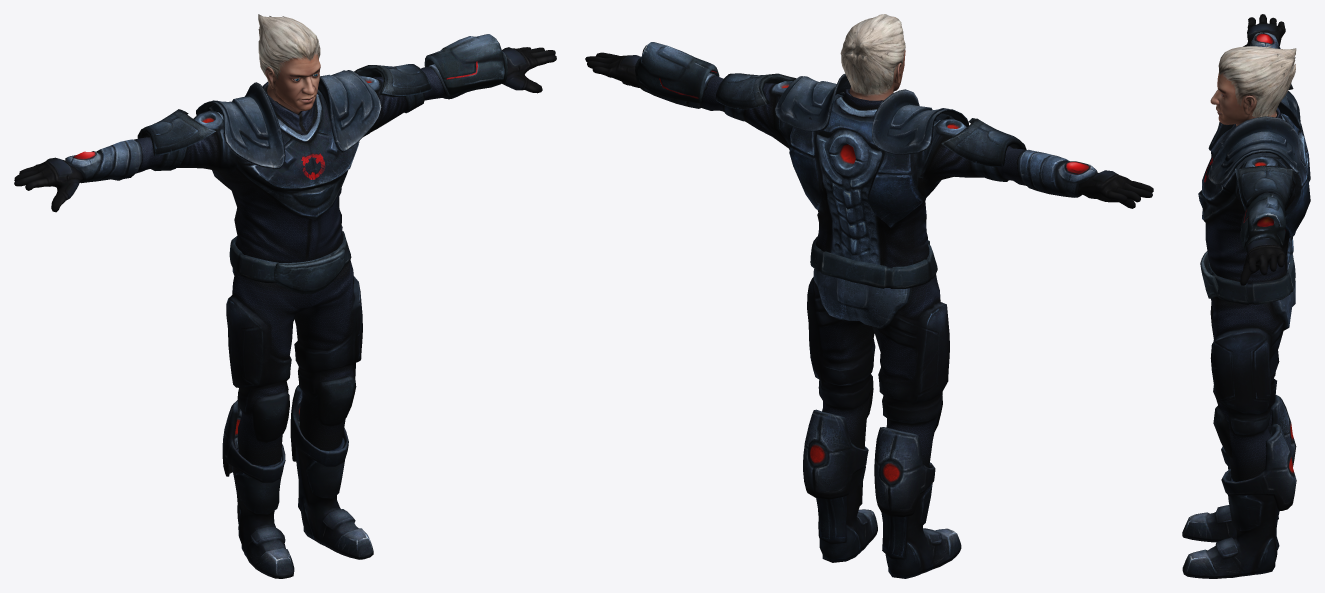
File: warrior.glb
The picture shows the model from 3 angles, left to right: view 1: azimuth 30°, elevation 25°; view 2: azimuth 150°, elevation 25°; view 3: azimuth 270°, elevation 25°; orthographic projection. The views are drawn at different scales.
Visible parts, largest first — view 1: Dreyar; view 2: Dreyar; view 3: Dreyar.
Boxes of the visible parts, x1,y1,x2,y2 form: Dreyar: (14,14,556,578); Dreyar: (585,14,1153,578); Dreyar: (1182,14,1310,578).
Bounding box in the file's own units: 1889 × 1725 × 398.
Materials: 1 (1 with a texture image).
